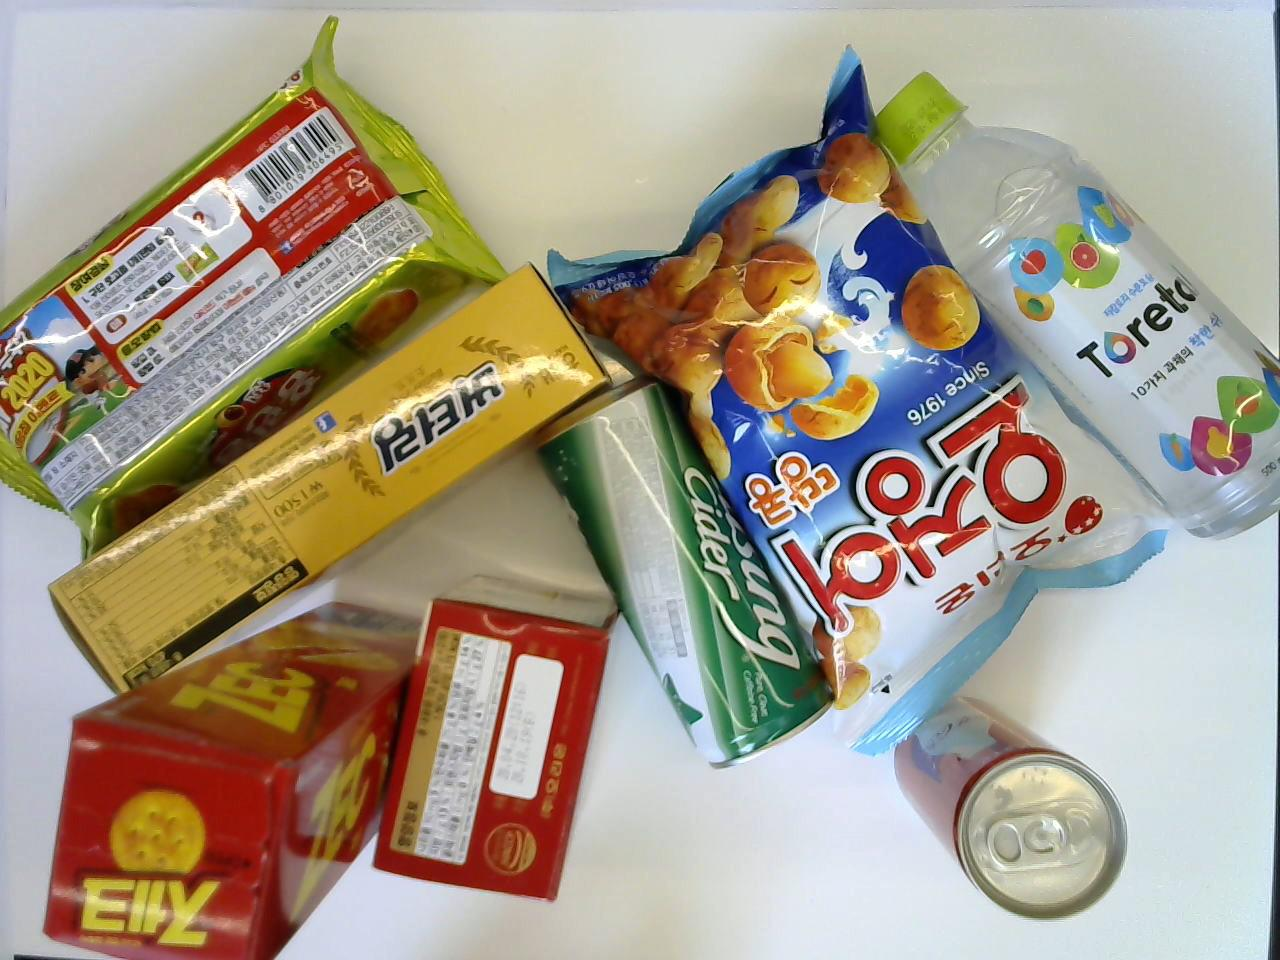buttering: (47, 255, 615, 699)
chocopie: (371, 570, 627, 906)
cidar: (527, 376, 833, 772)
coke: (893, 695, 1128, 920)
homerunball: (0, 10, 509, 569)
squid_peanut: (535, 37, 1173, 757)
toreta: (870, 64, 1273, 542)
zec: (37, 597, 437, 957)
